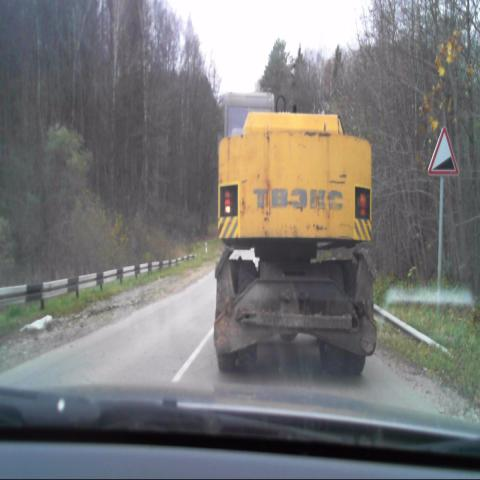1_14: (425, 123, 459, 179)
